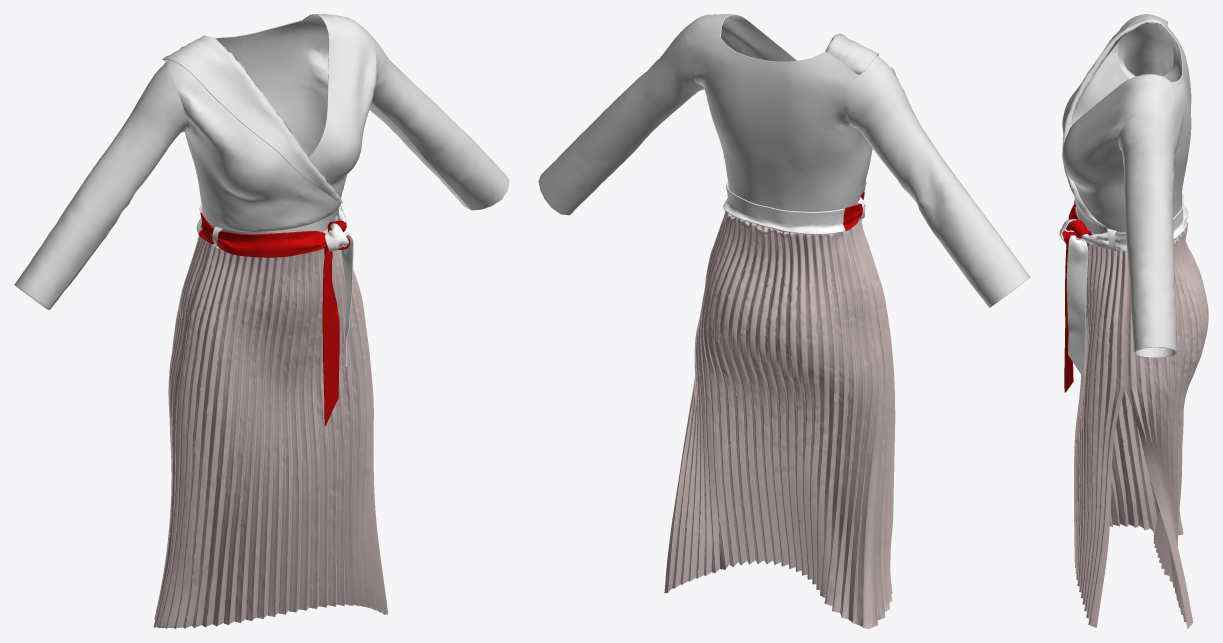
3 renders of one model, left to right at view 1: azimuth 30°, elevation 25°; view 2: azimuth 150°, elevation 25°; view 3: azimuth 270°, elevation 25°, orthographic. The views are drawn at different scales.
Visible parts, largest first — view 1: Z; view 2: Z; view 3: Z.
Part boxes in pixels (box(x1,y1,x2,y2)): Z: box(14, 14, 509, 628); Z: box(538, 14, 1030, 628); Z: box(1059, 14, 1208, 628).
Size of the model in its own units: 0.9725 by 1.12 by 0.2792.
